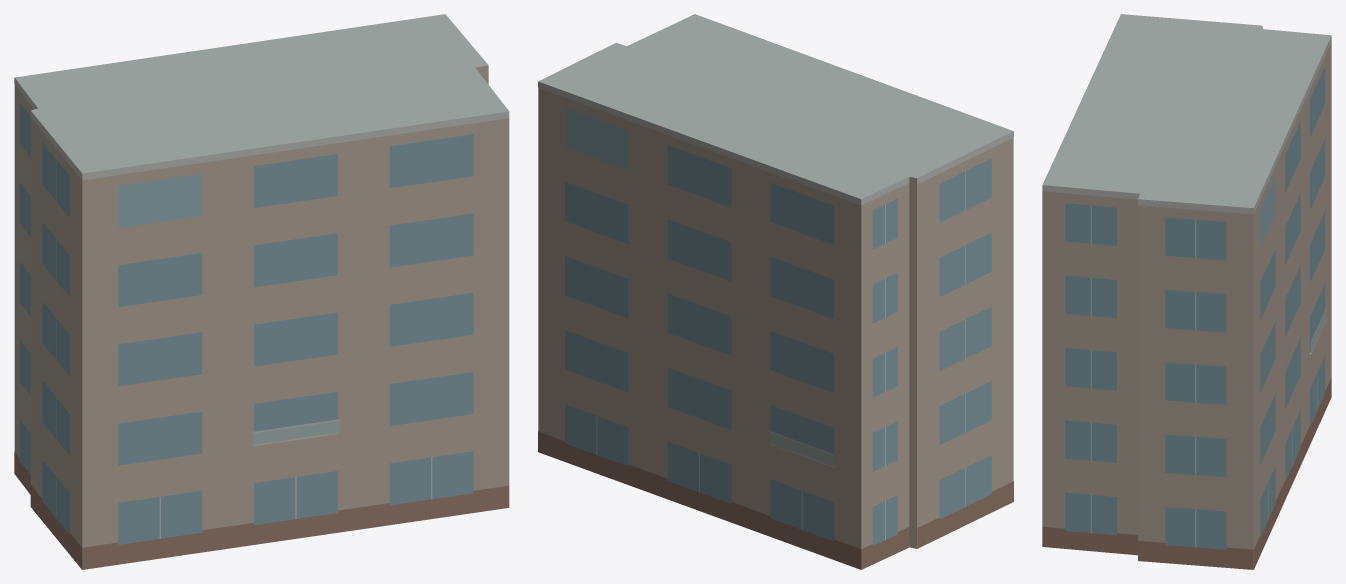
File: survey-upis-32970030.glb
3 renders of one model, left to right at view 1: azimuth 30°, elevation 25°; view 2: azimuth 150°, elevation 25°; view 3: azimuth 270°, elevation 25°, orthographic. The views are drawn at different scales.
Visible parts, largest first — view 1: survey-upis-32970030.tmp; view 2: survey-upis-32970030.tmp; view 3: survey-upis-32970030.tmp.
Boxes of the visible parts, box(x1,y1,x2,y2) form: survey-upis-32970030.tmp: box(14, 14, 509, 569); survey-upis-32970030.tmp: box(538, 14, 1013, 569); survey-upis-32970030.tmp: box(1042, 14, 1331, 569).
Bounding box in the file's own units: 16.58 × 14.4 × 10.45.
